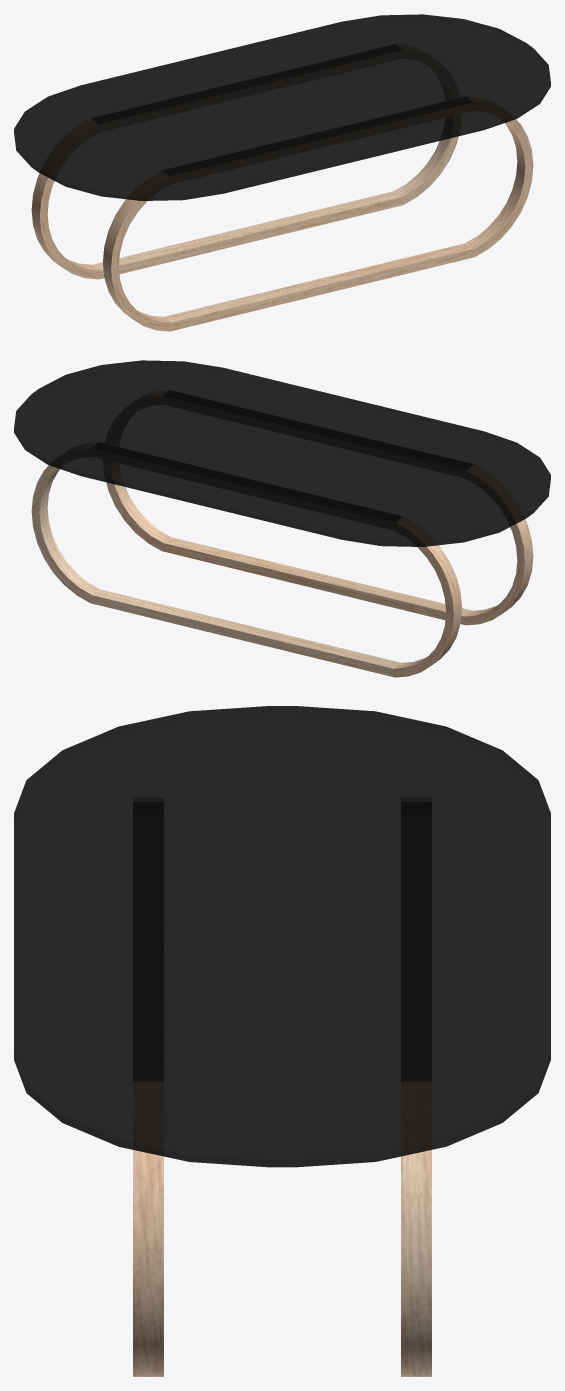
3 views of the same model, one above another, from view 1: azimuth 30°, elevation 25°; view 2: azimuth 150°, elevation 25°; view 3: azimuth 270°, elevation 25° (orthographic). The views are drawn at different scales.
Parts seen in each view (by area): view 1: glassTable; view 2: glassTable; view 3: glassTable.
Part boxes in pixels (x1,y1,x2,y2): glassTable: (14, 14, 550, 331); glassTable: (14, 360, 550, 677); glassTable: (14, 706, 550, 1376).
Bounding box in the file's own units: 39321 × 12123 × 19659.
Materials: 2 (1 with a texture image).
